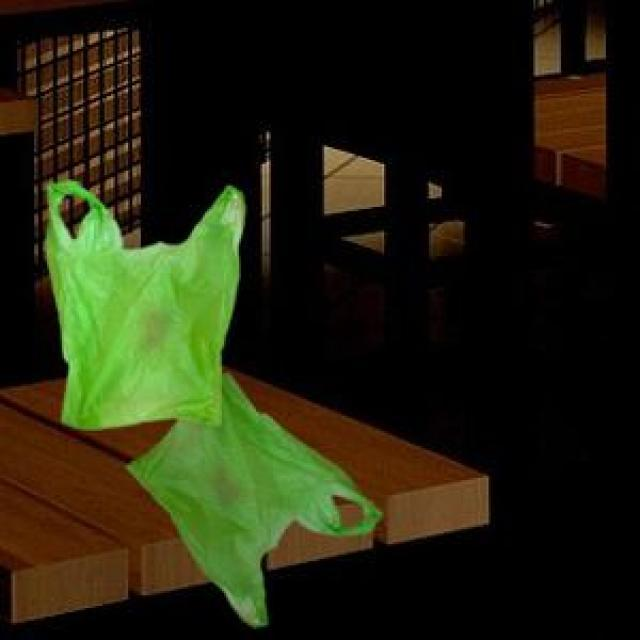waste: (45, 181, 381, 627)
